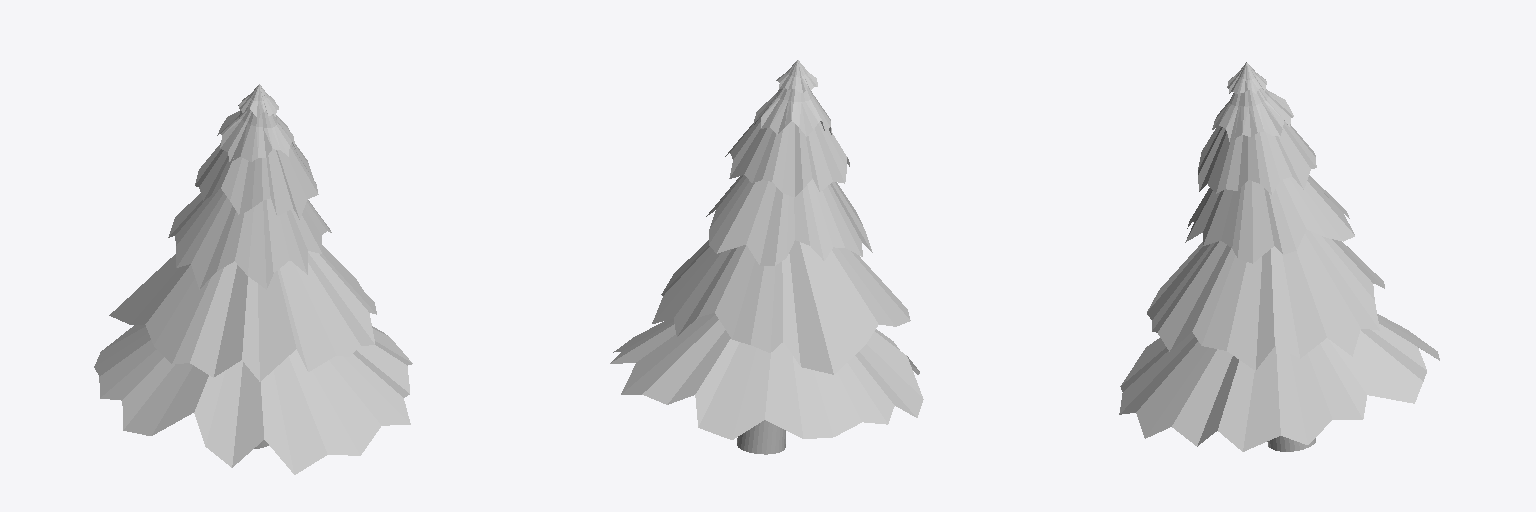
The model's file is tree_2.obj.
3 views of the same model, side by side, from view 1: azimuth 30°, elevation 25°; view 2: azimuth 150°, elevation 25°; view 3: azimuth 270°, elevation 25° (orthographic).
Parts seen in each view (by area): view 1: Tree.003_Cone.010; view 2: Tree.003_Cone.010; view 3: Tree.003_Cone.010.
Boxes of the visible parts, box(x1,y1,x2,y2) form: Tree.003_Cone.010: box(94, 84, 412, 474); Tree.003_Cone.010: box(610, 60, 923, 454); Tree.003_Cone.010: box(1119, 62, 1439, 451).
Size of the model in its own units: 2.85 by 3.63 by 2.82.